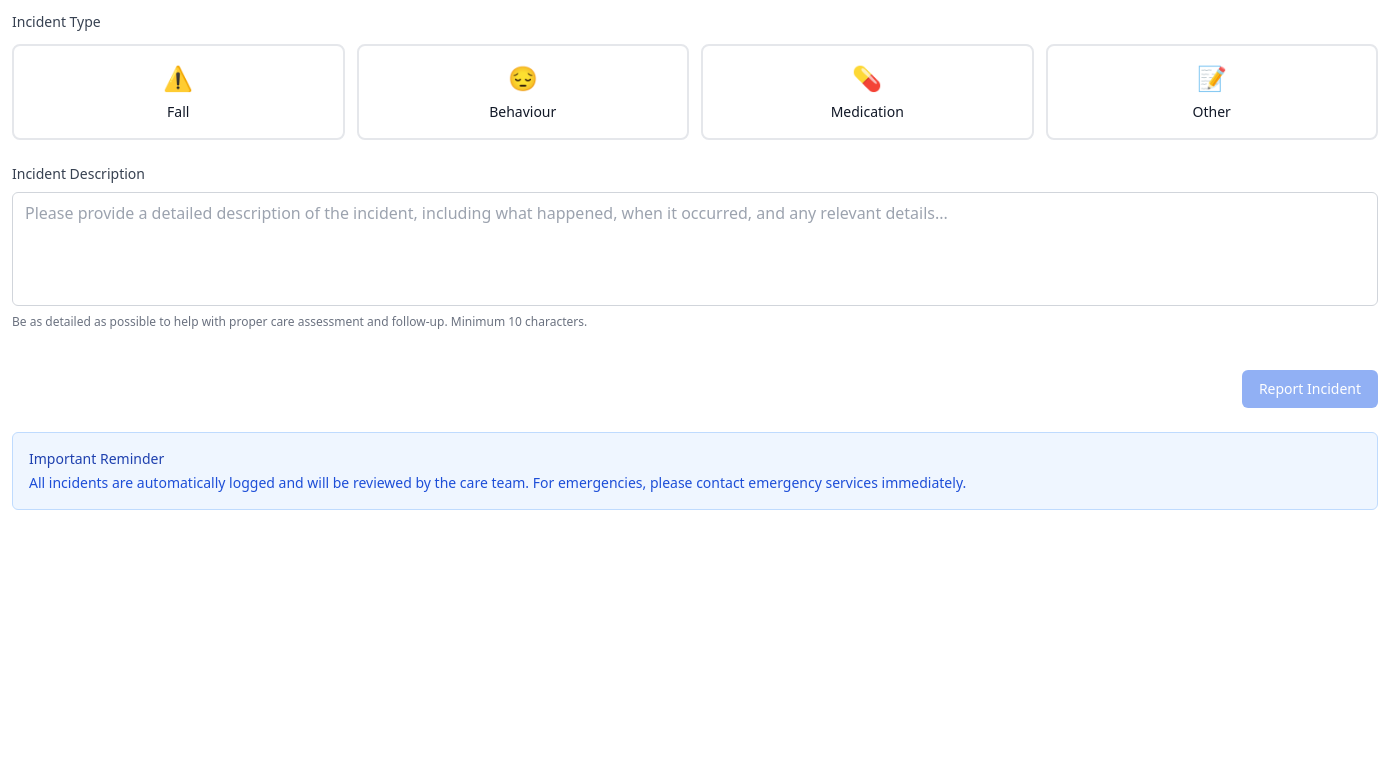
Test case: IncidentForm › shows success message after submit
The image size is (1390, 780).
Click the text "Fall": (178, 112) [167, 102, 190, 121]
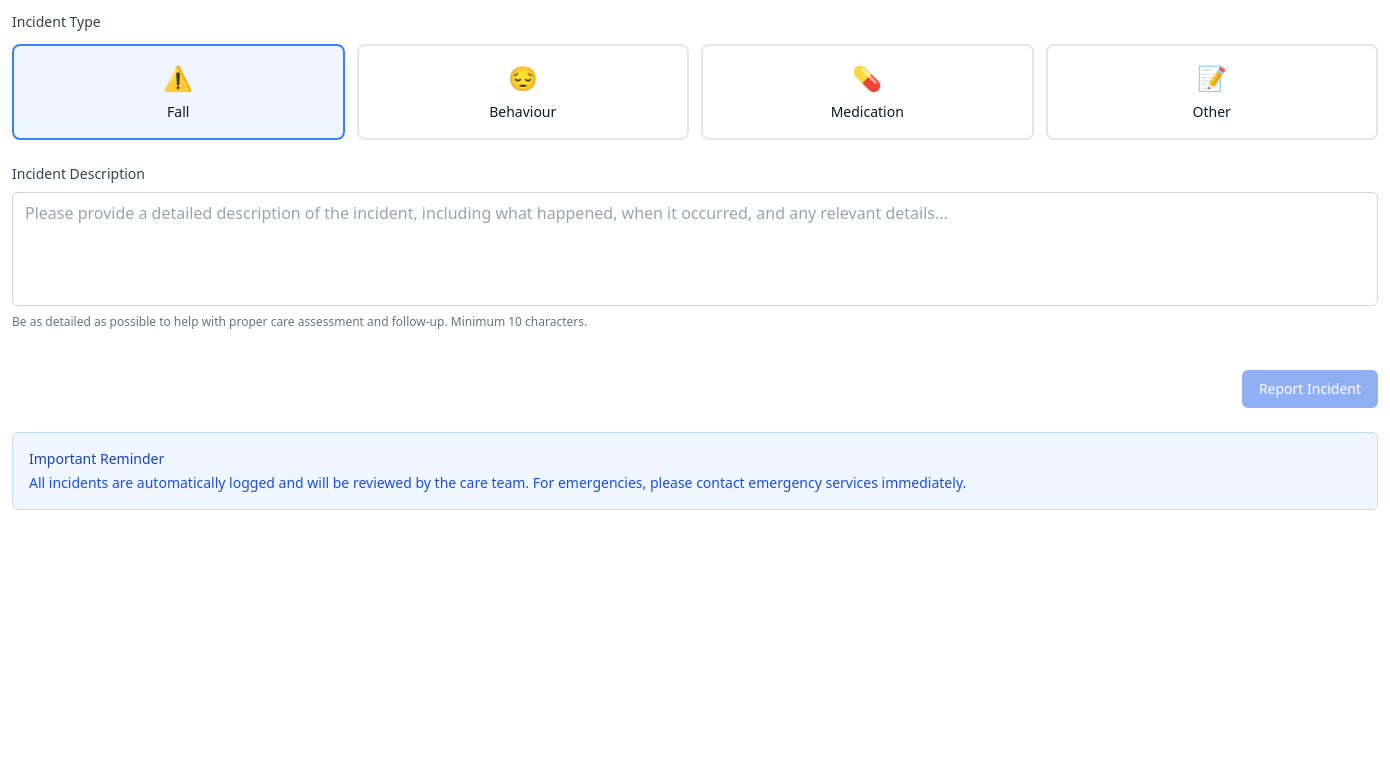
Replace the text in the text box labelled "Incident Description" with "A valid description for testing": (695, 249) [12, 192, 1378, 306]
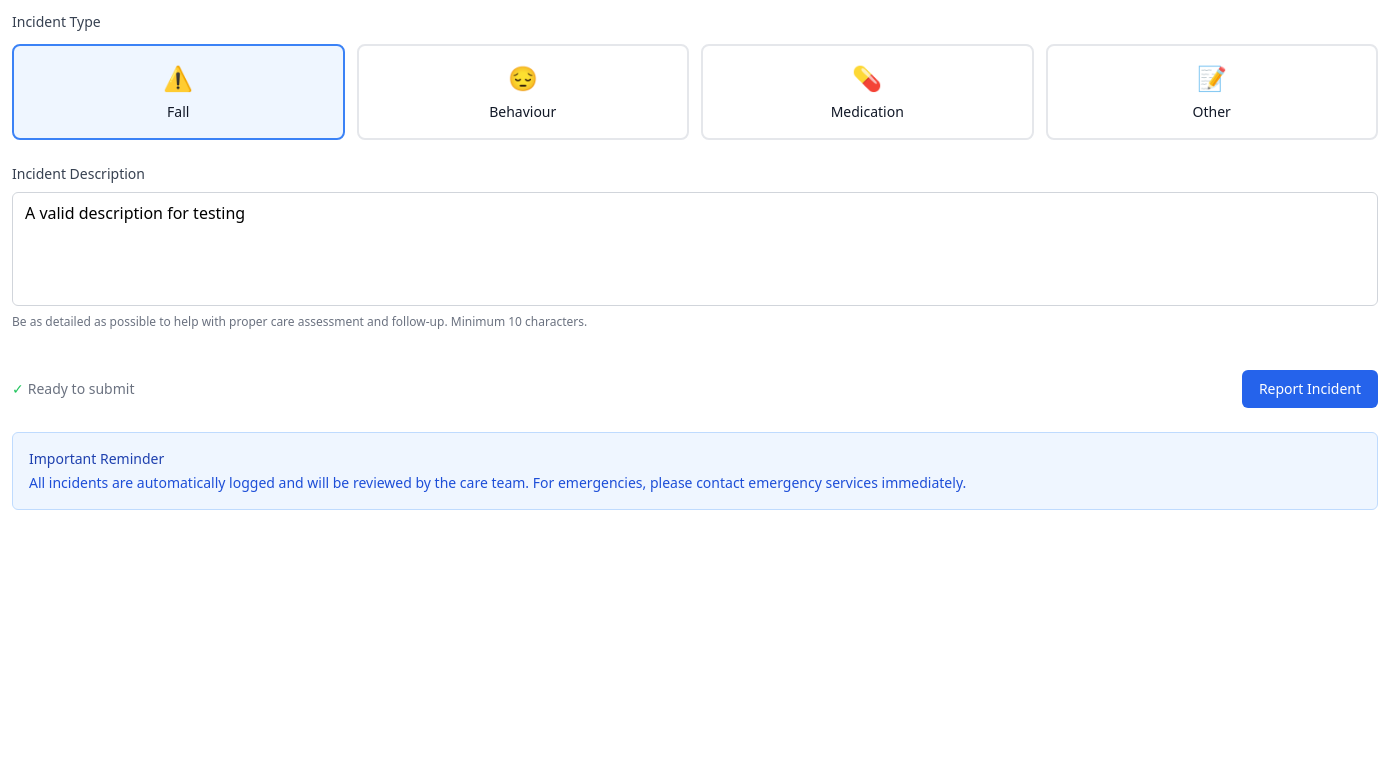
Click the button "Report Incident": (1310, 389) [1242, 370, 1378, 408]
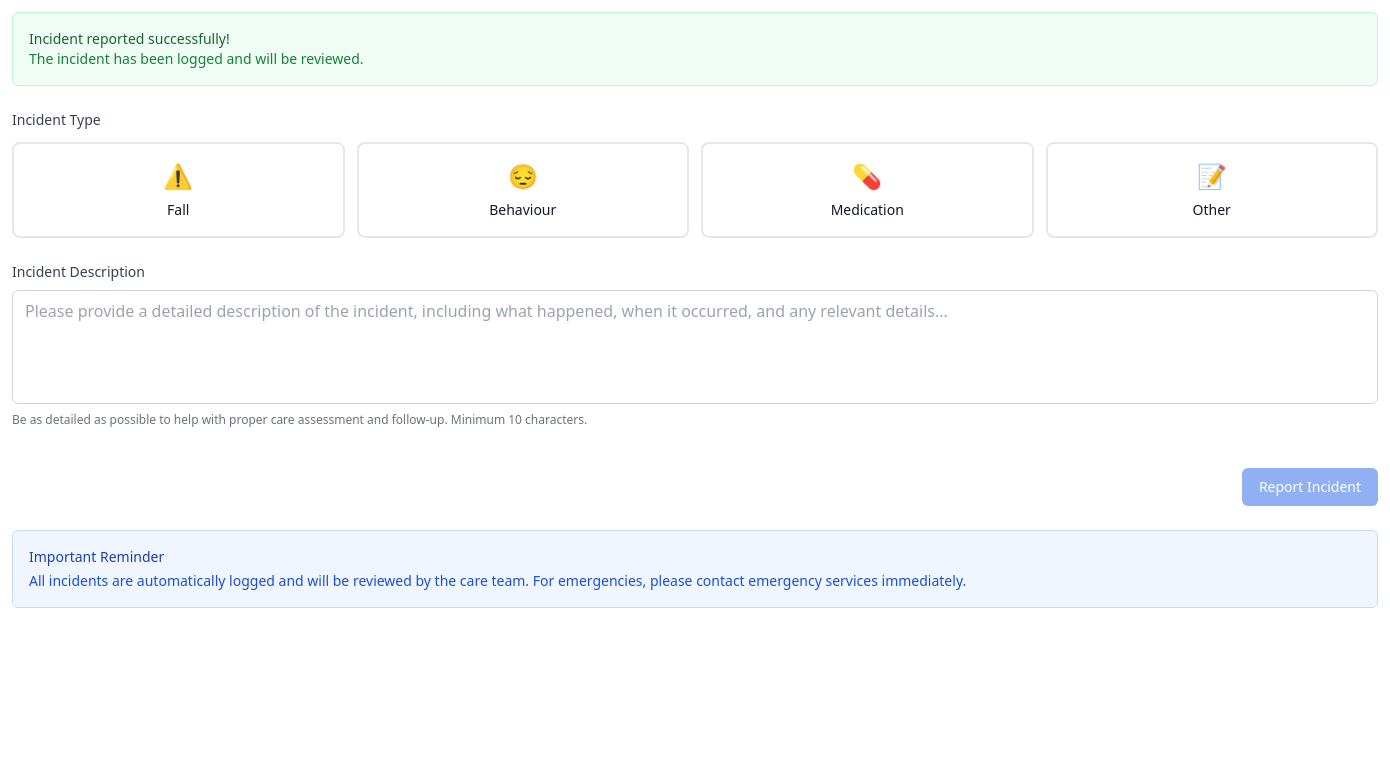
Now the text "Incident reported successfully!" is shown, box [29, 29, 230, 48]
